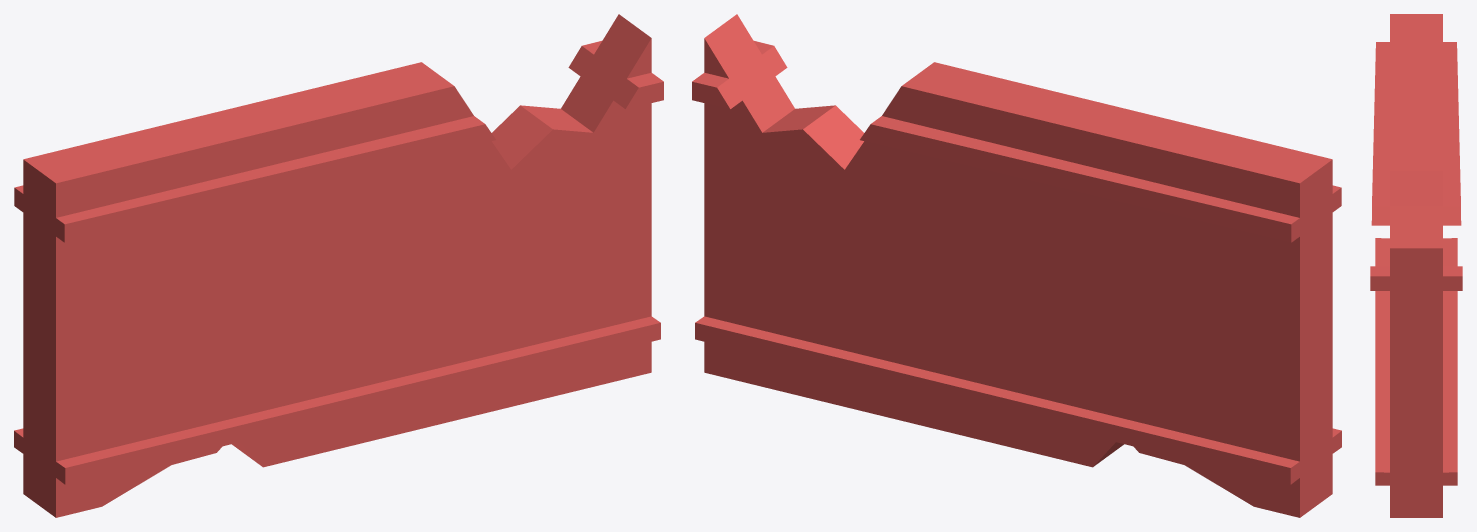
Rendered from WallDestroyed_A.fbx.
3 views of the same model, side by side, from view 1: azimuth 30°, elevation 25°; view 2: azimuth 150°, elevation 25°; view 3: azimuth 270°, elevation 25° (orthographic). The views are drawn at different scales.
Parts seen in each view (by area): view 1: BrokenWall; view 2: BrokenWall; view 3: BrokenWall.
Part boxes in pixels (x1,y1,x2,y2): BrokenWall: (14,14,663,517); BrokenWall: (692,14,1341,517); BrokenWall: (1370,14,1462,517).
Bounding box in the file's own units: 559 × 300 × 93.39.
